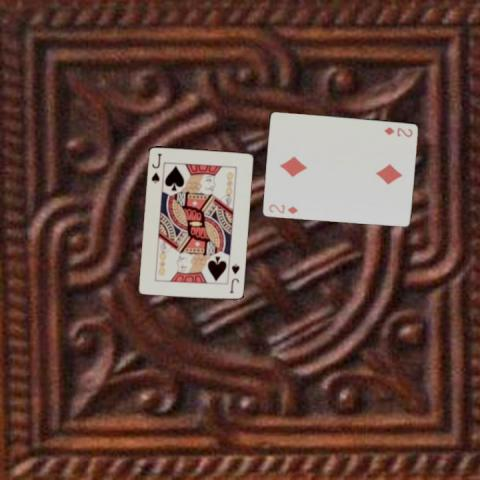2d: (266, 201, 299, 215), (382, 124, 414, 138)
Js: (148, 150, 162, 184), (226, 261, 240, 294)
